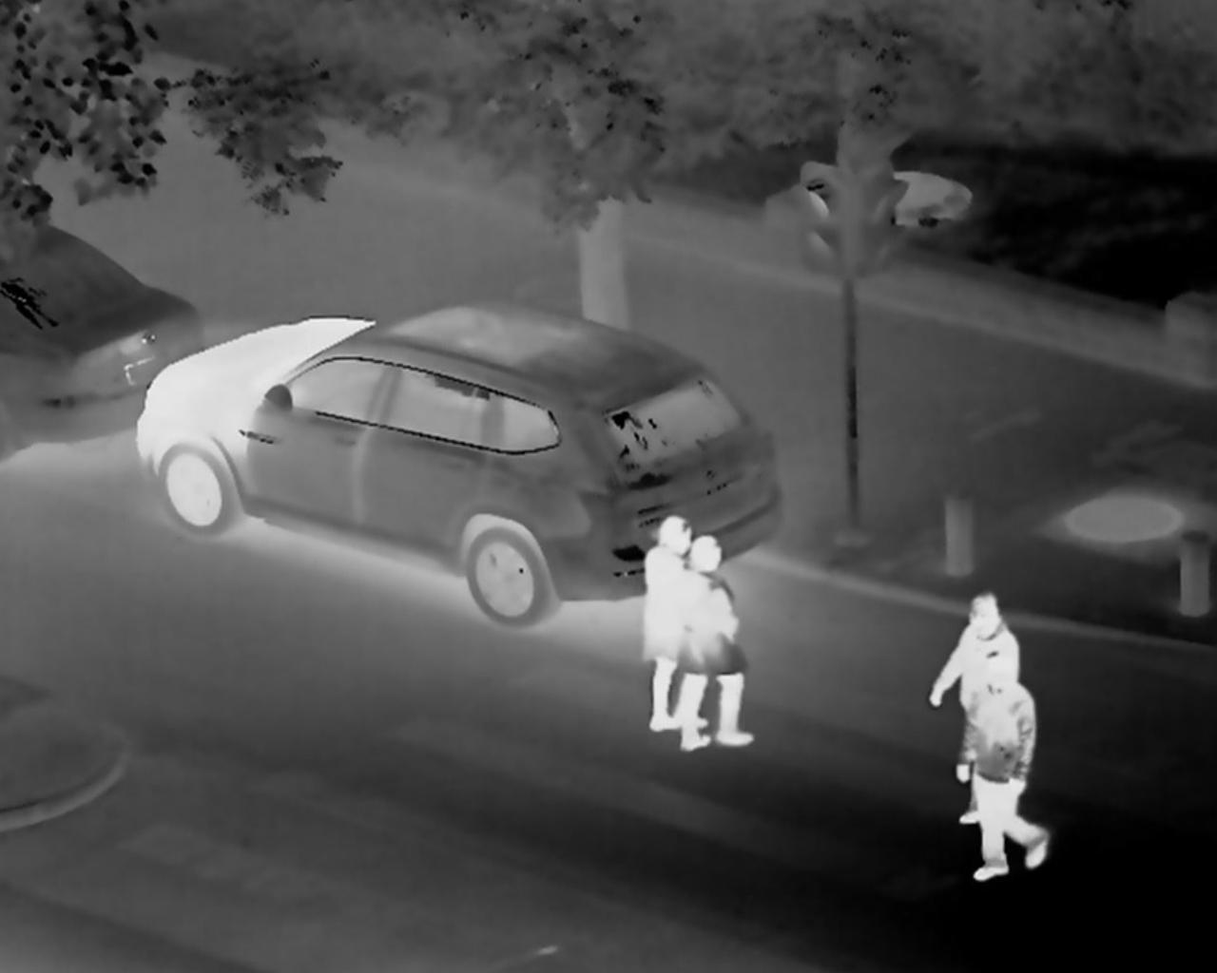person: (960, 684, 1058, 874), (684, 535, 760, 768), (639, 514, 675, 732), (964, 576, 1003, 676)
